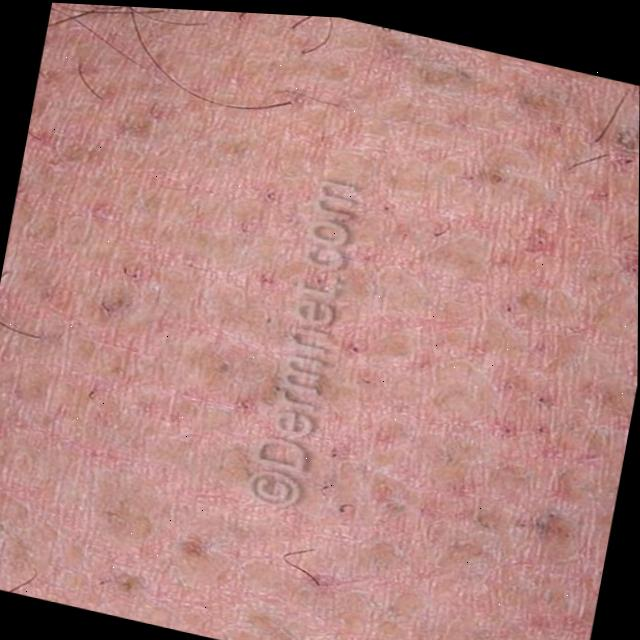Eczema: (49, 20, 588, 532)
